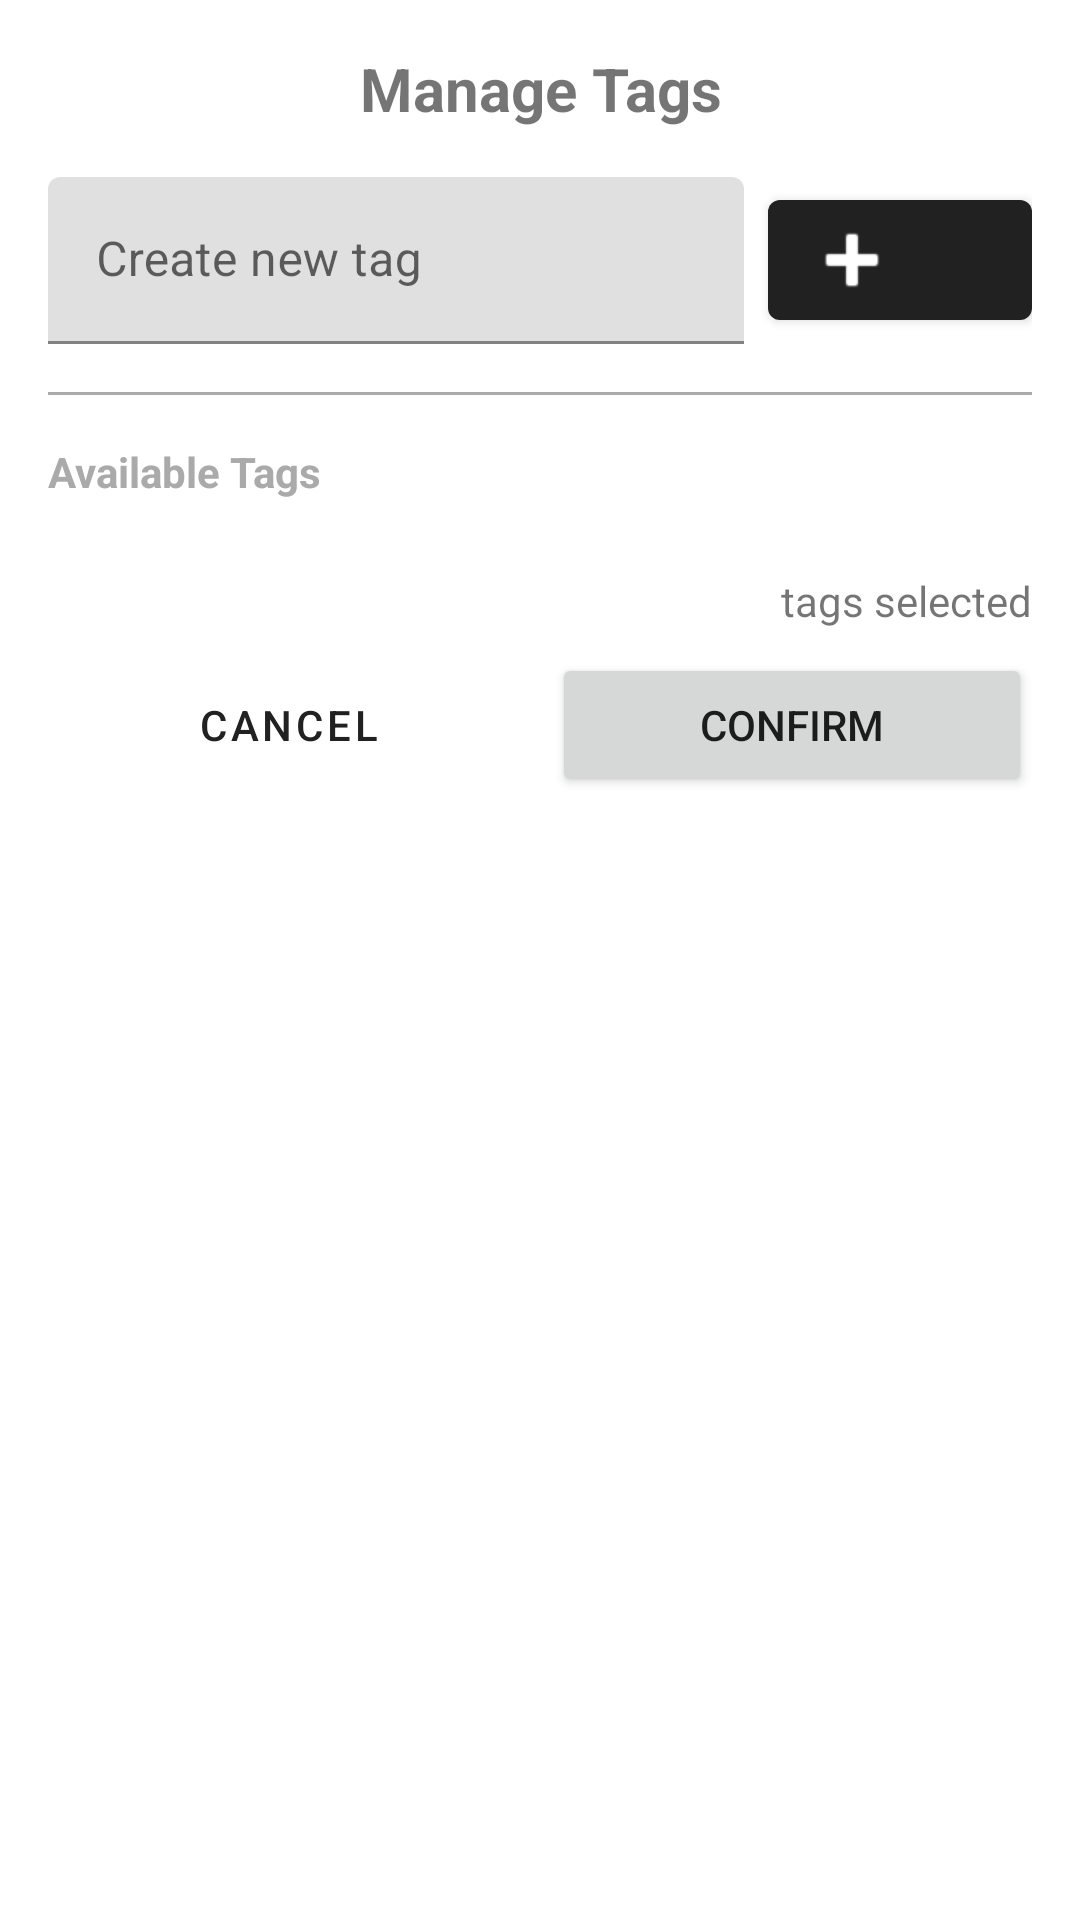

Icons on this 1080*1920 Android screen, each with its box as (x1, y1, x2, y2):
add: (768, 200, 1032, 320)
